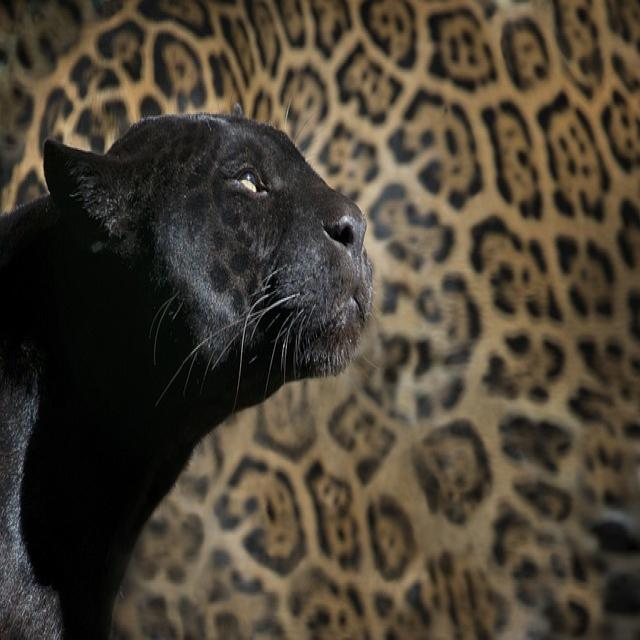Carnivorous: (0, 114, 374, 640)
